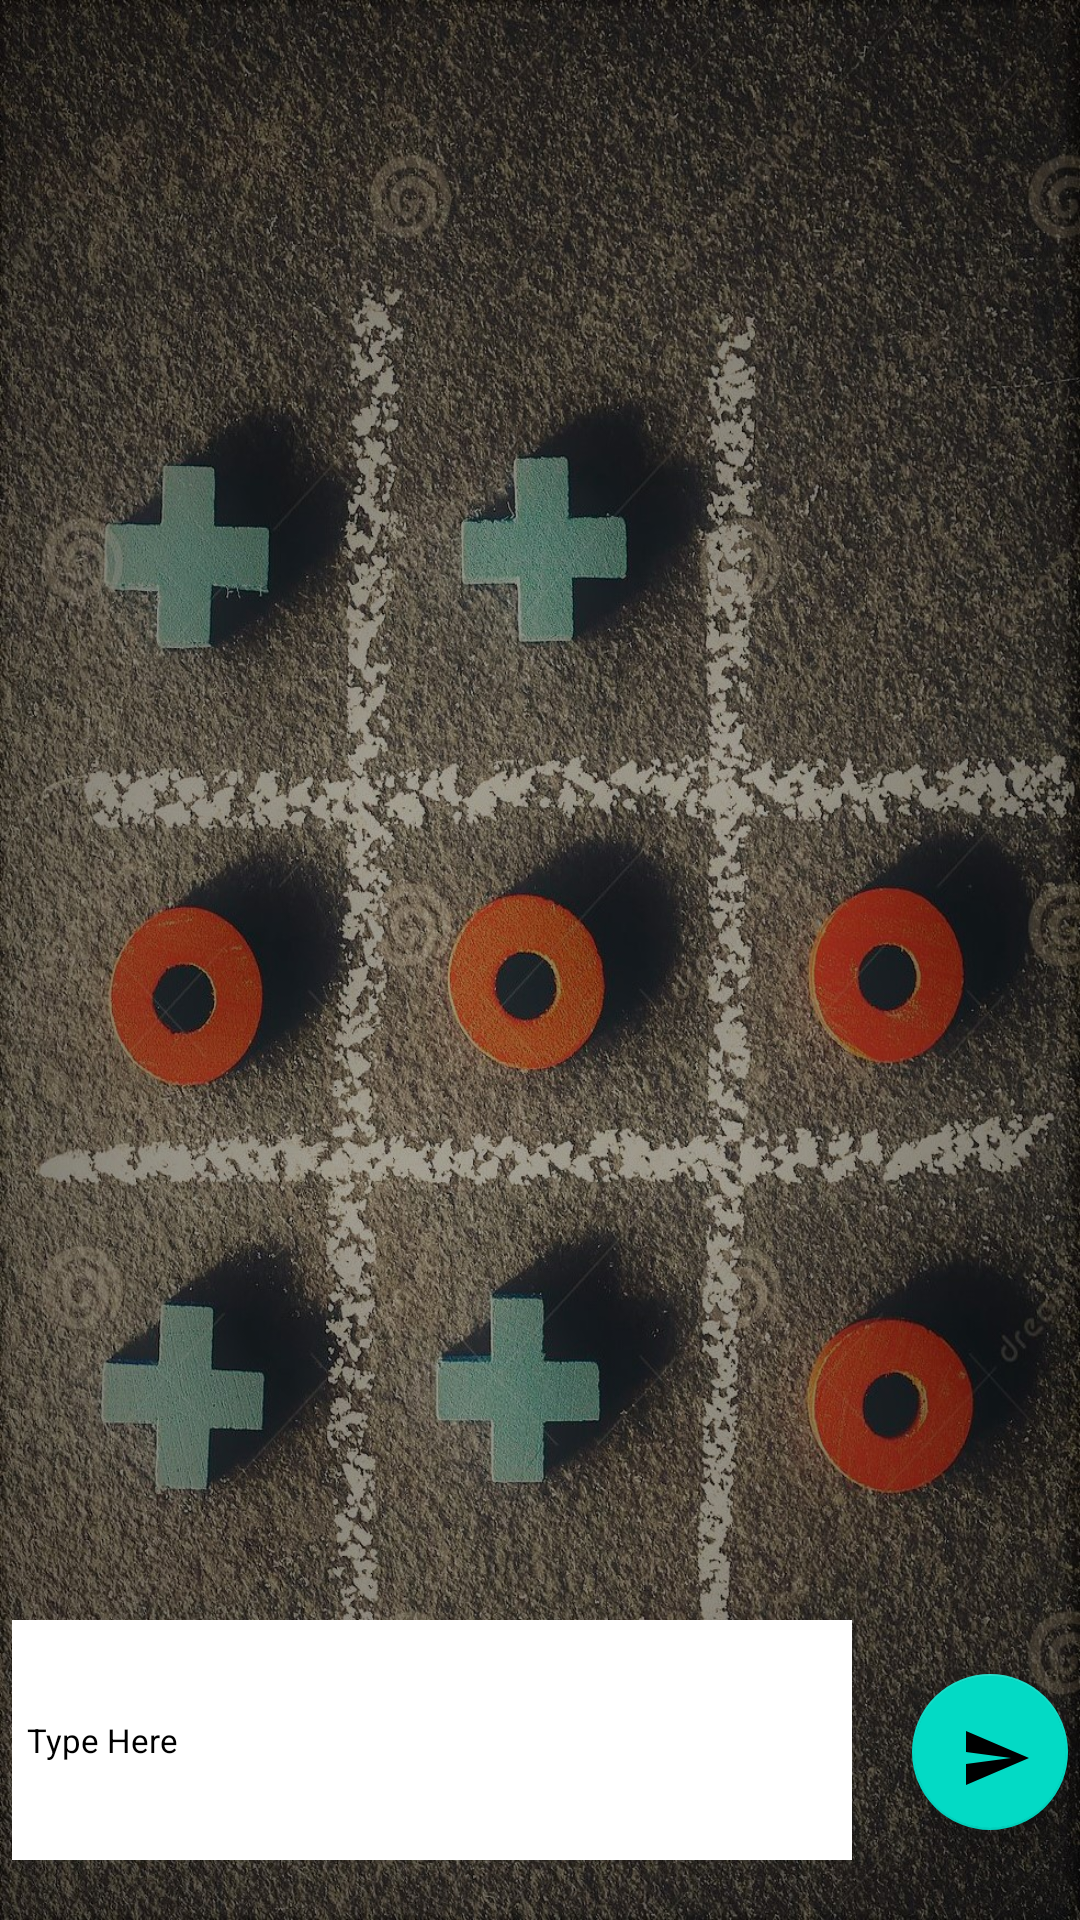

Screen size 1080w x 1920h. Icon name, then its box in pixels as (x1, y1, x2, y2):
send: (912, 1674, 1068, 1830)
